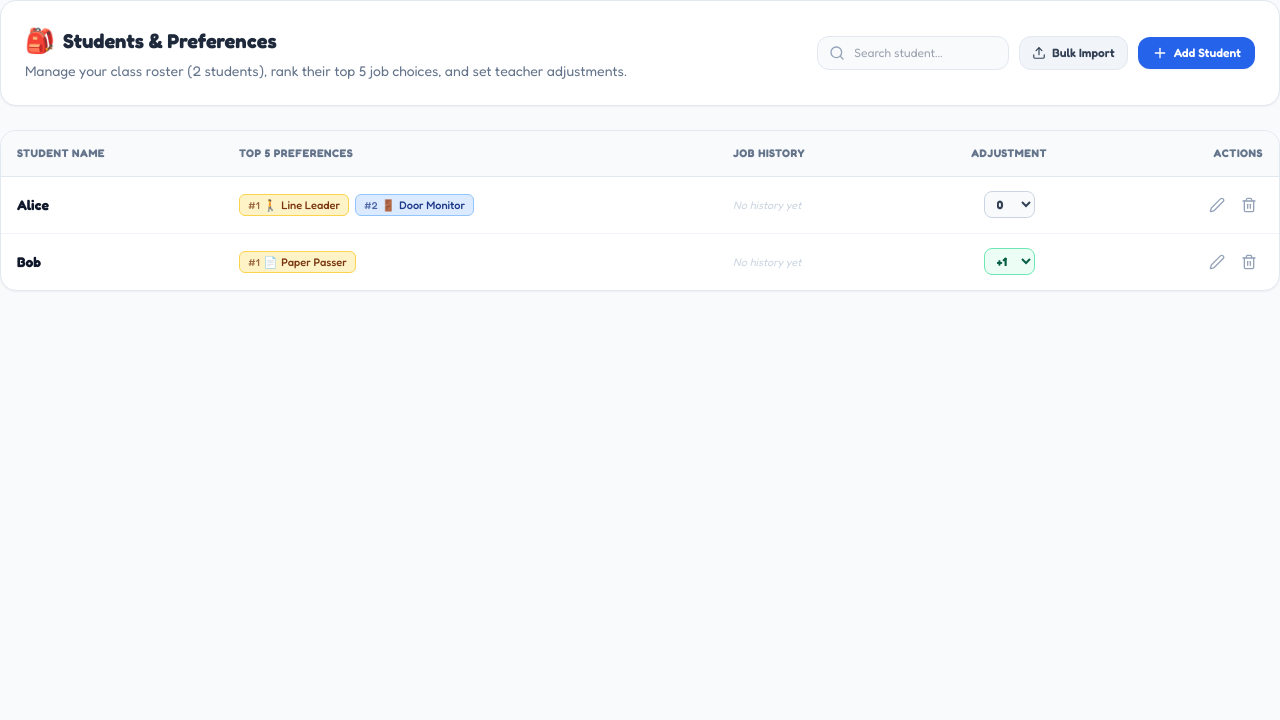
Test case: StudentManager › cancels edit form
Click the button named "edit student & preferences" in the row of "Alice".
click(1217, 204)  # box [1203,190,1231,218]
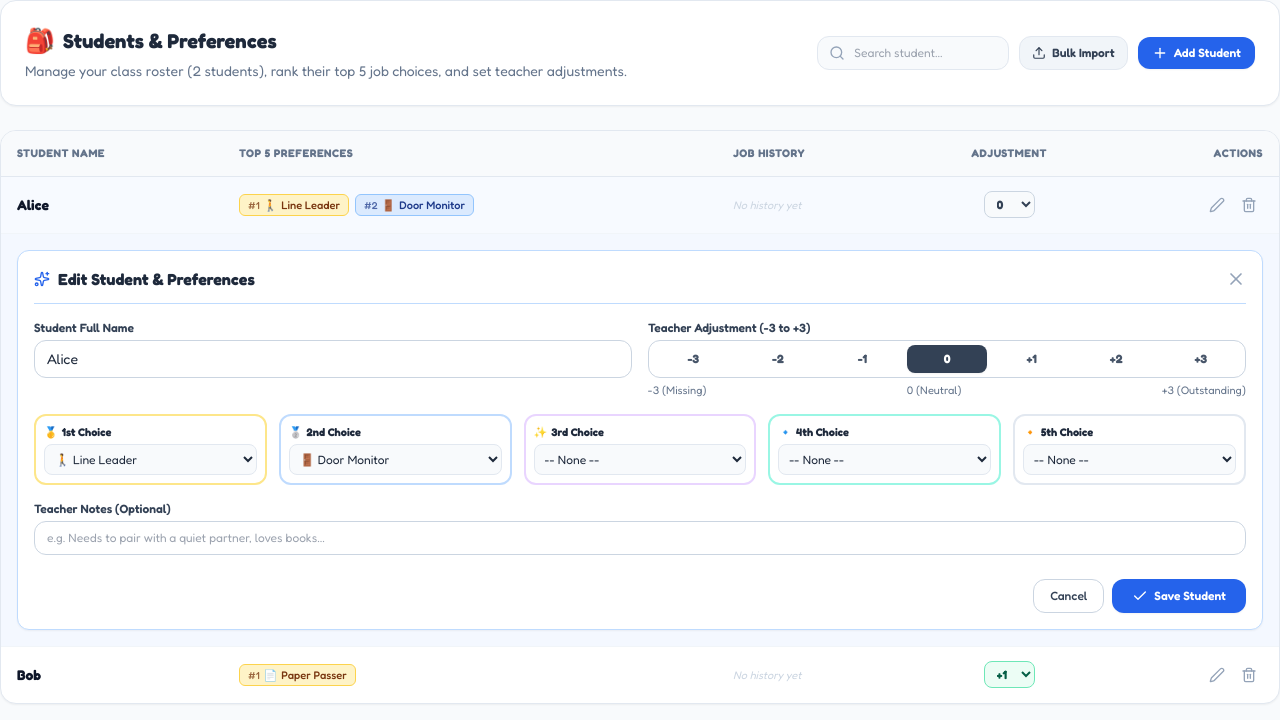
Now the heading "Edit Student & Preferences" is shown, box [34,266,255,290]
Click the button "Cancel".
click(1069, 596)  # box [1033,578,1104,612]
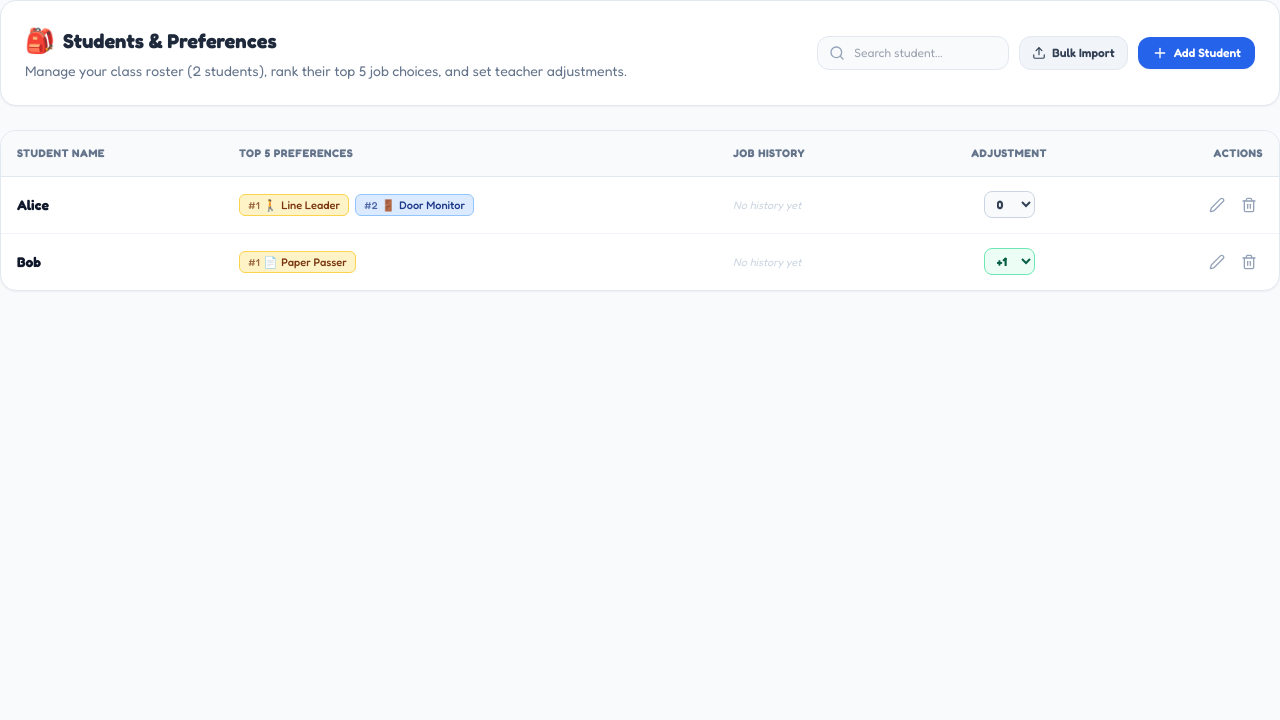
Now the heading "Edit Student & Preferences" is gone
